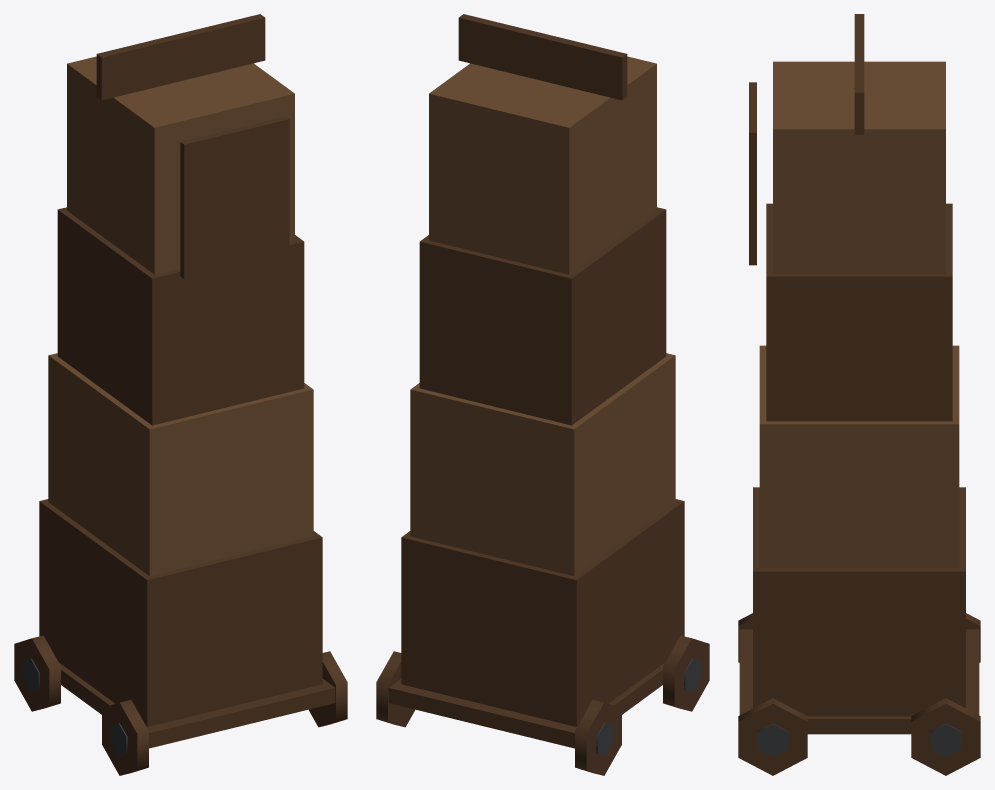
The model's file is unit_mil_siege_tower_a04_lod1.glb.
The picture shows the model from 3 angles, left to right: view 1: azimuth 30°, elevation 25°; view 2: azimuth 150°, elevation 25°; view 3: azimuth 270°, elevation 25°; orthographic projection.
Parts seen in each view (by area): view 1: body, bridge, wheel_0, wheel_2, wheel_3; view 2: body, wheel_2, wheel_0, wheel_1; view 3: body, wheel_1, wheel_3, bridge.
Part boxes in pixels (<box>): body: <box>39,14,335,748</box>; bridge: <box>180,116,289,279</box>; wheel_0: <box>14,635,60,711</box>; wheel_2: <box>102,700,148,775</box>; wheel_3: <box>309,651,347,727</box>; body: <box>388,14,684,748</box>; wheel_2: <box>663,635,709,711</box>; wheel_0: <box>575,700,621,775</box>; wheel_1: <box>376,651,414,727</box>; body: <box>739,14,979,734</box>; wheel_1: <box>911,698,980,775</box>; wheel_3: <box>738,698,807,775</box>; bridge: <box>749,82,756,265</box>.
Size of the model in its own units: 3.64 by 11.15 by 3.64.
